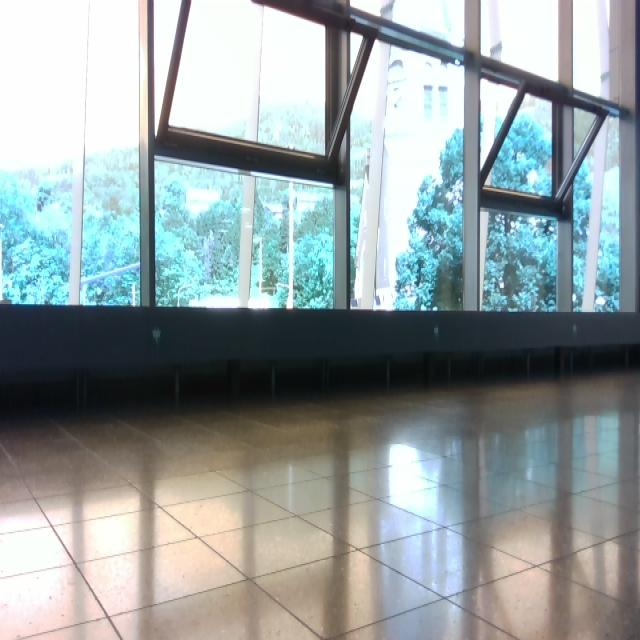light bulb: (185, 186, 221, 216), (265, 202, 284, 216)
tiled floor: (2, 371, 639, 639)
window: (1, 1, 639, 316)
